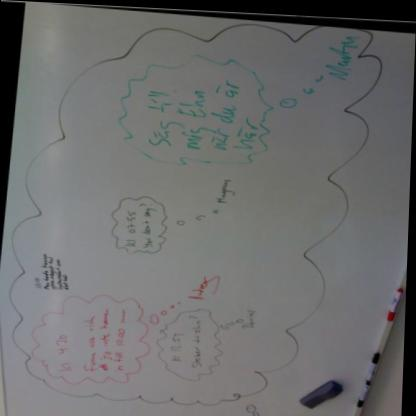Handwritten text: (41, 246, 72, 295), (136, 206, 164, 253), (81, 308, 100, 372), (188, 317, 210, 372), (100, 306, 116, 363), (212, 176, 243, 205), (112, 347, 127, 377)
Whiteboard: (1, 3, 416, 416)
